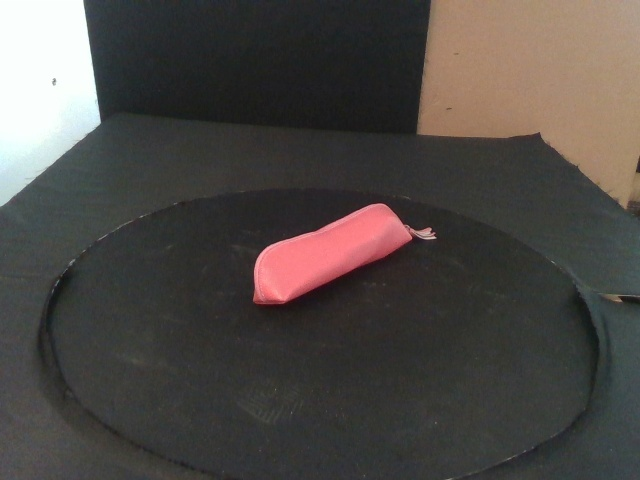pencil_case: (253, 202, 413, 306)
